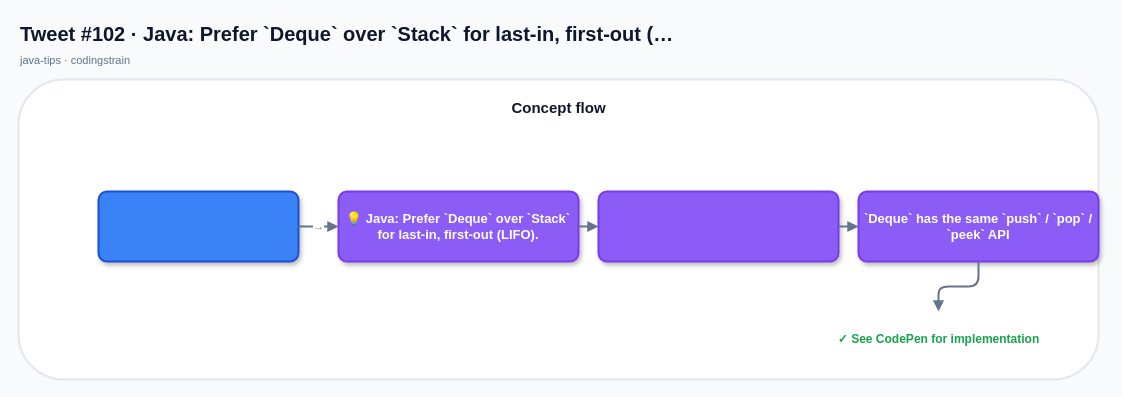
Some shapes in this 1122 by 397 pixel diagram are drawn without their labels. Here are the shapes that lost their labels. From the top down, the centre of each, then its label:
At (x=199, y=227): "Problem / context".
At (x=719, y=227): "`Stack` is legacy — extends `Vector`, syncs every call".
